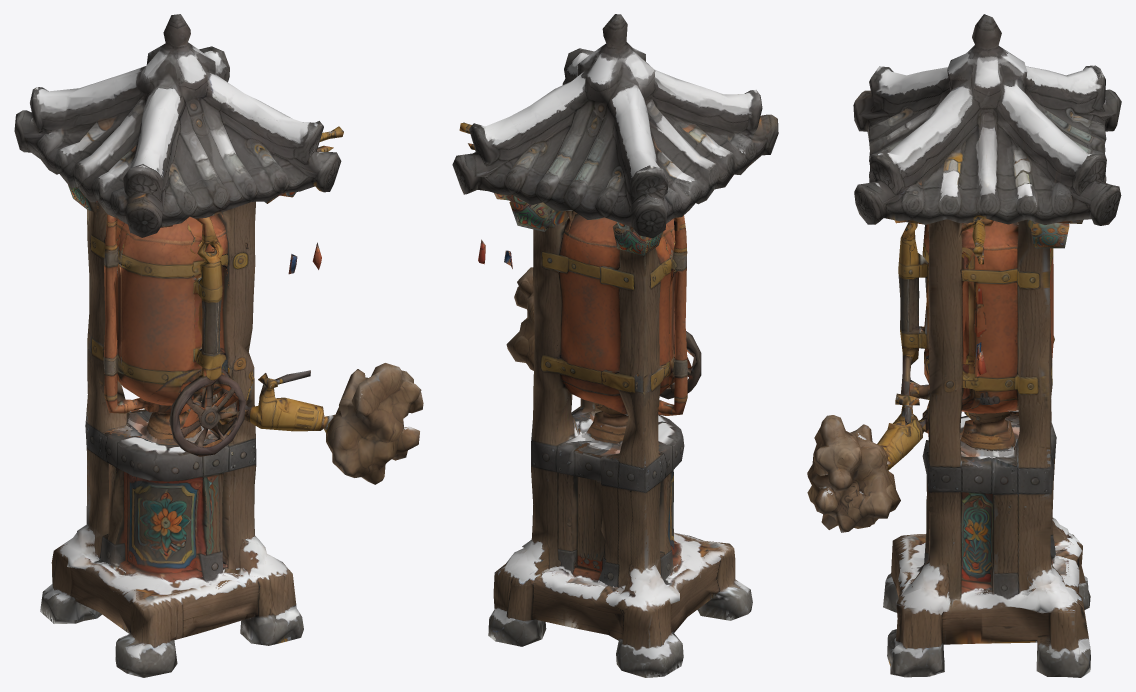
File: PR_SteamRefill.fbx
3 views of the same model, side by side, from view 1: azimuth 30°, elevation 25°; view 2: azimuth 150°, elevation 25°; view 3: azimuth 270°, elevation 25° (orthographic). The views are drawn at different scales.
Parts seen in each view (by area): view 1: texture_mapping; view 2: texture_mapping; view 3: texture_mapping.
Part boxes in pixels (box(x1,y1,x2,y2)): texture_mapping: box(14, 14, 423, 677); texture_mapping: box(452, 14, 778, 677); texture_mapping: box(807, 14, 1121, 677).
Bounding box in the file's own units: 0.4815 × 0.4601 × 1.
Materials: 1 (1 with a texture image).
